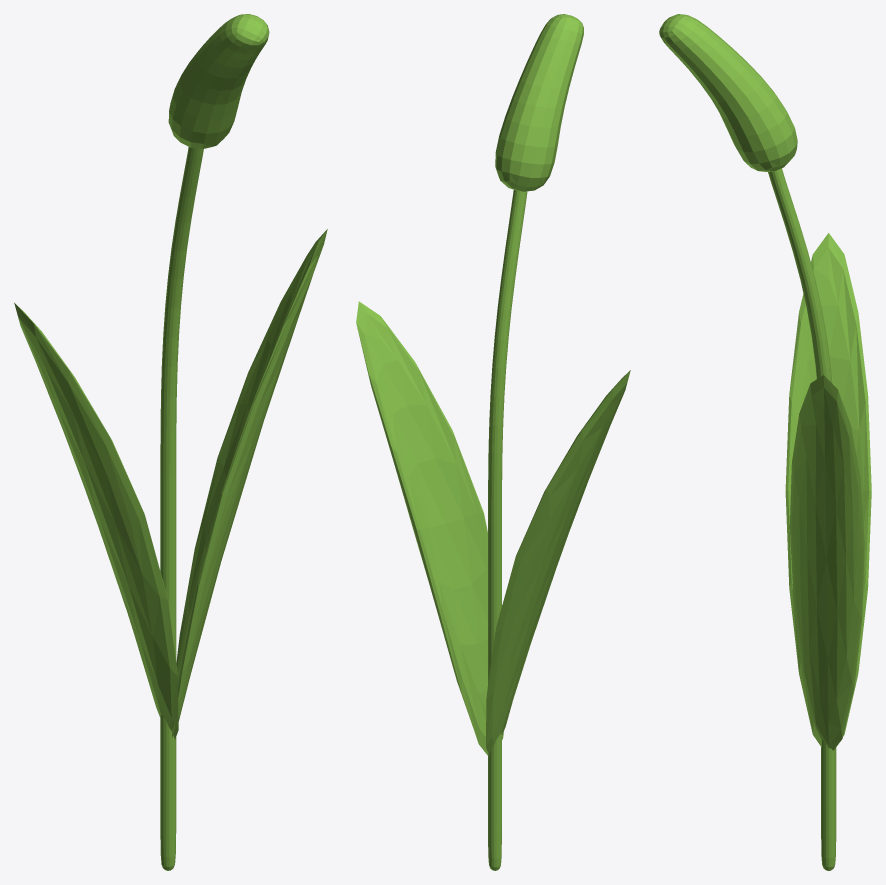
The model's file is Neutral_foxtail.glb.
3 renders of one model, left to right at view 1: azimuth 30°, elevation 25°; view 2: azimuth 150°, elevation 25°; view 3: azimuth 270°, elevation 25°, orthographic. The views are drawn at different scales.
Visible parts, largest first — view 1: Cylinder.004; view 2: Cylinder.004; view 3: Cylinder.004.
Part boxes in pixels (x1,y1,x2,y2): Cylinder.004: (14, 14, 327, 870); Cylinder.004: (356, 14, 630, 870); Cylinder.004: (659, 14, 871, 870).
Size of the model in its own units: 2.94 by 8.24 by 1.86.
